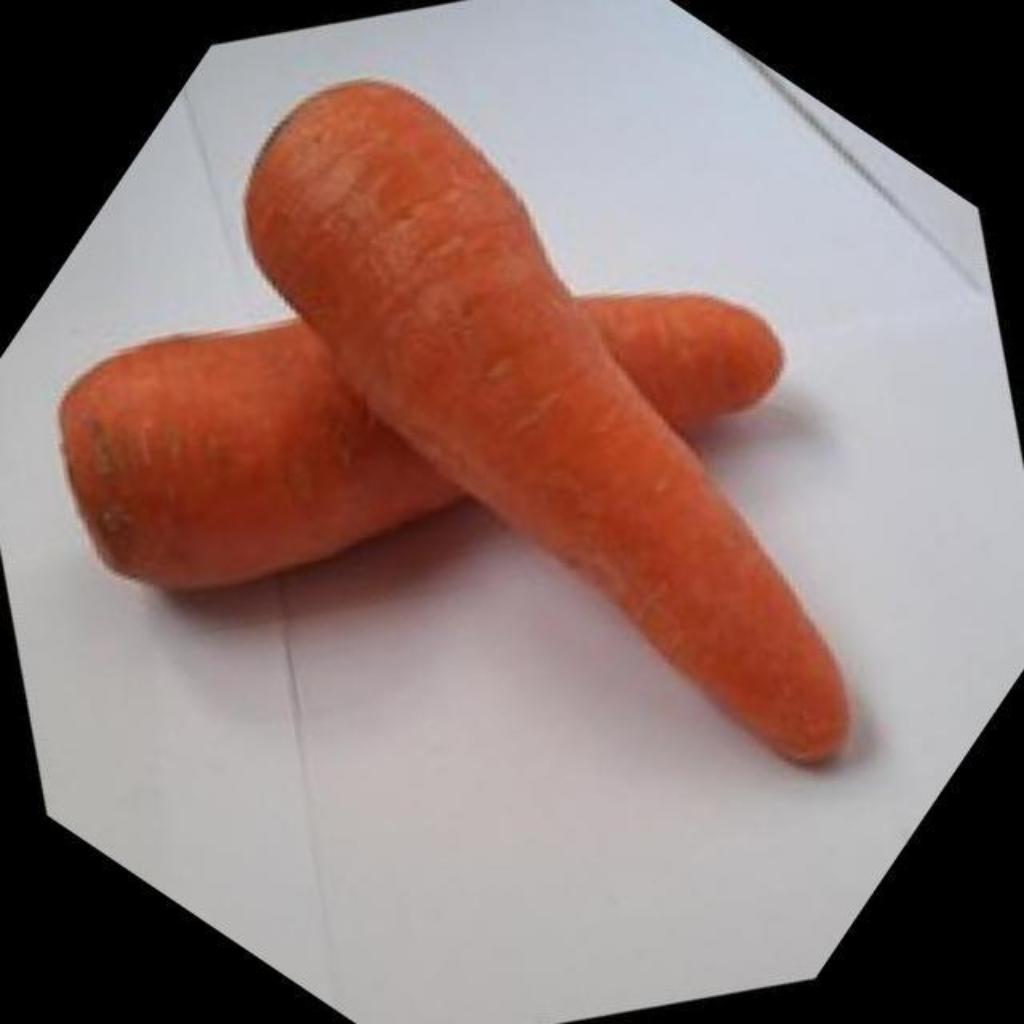carrot: (246, 82, 848, 762), (62, 293, 786, 588)
